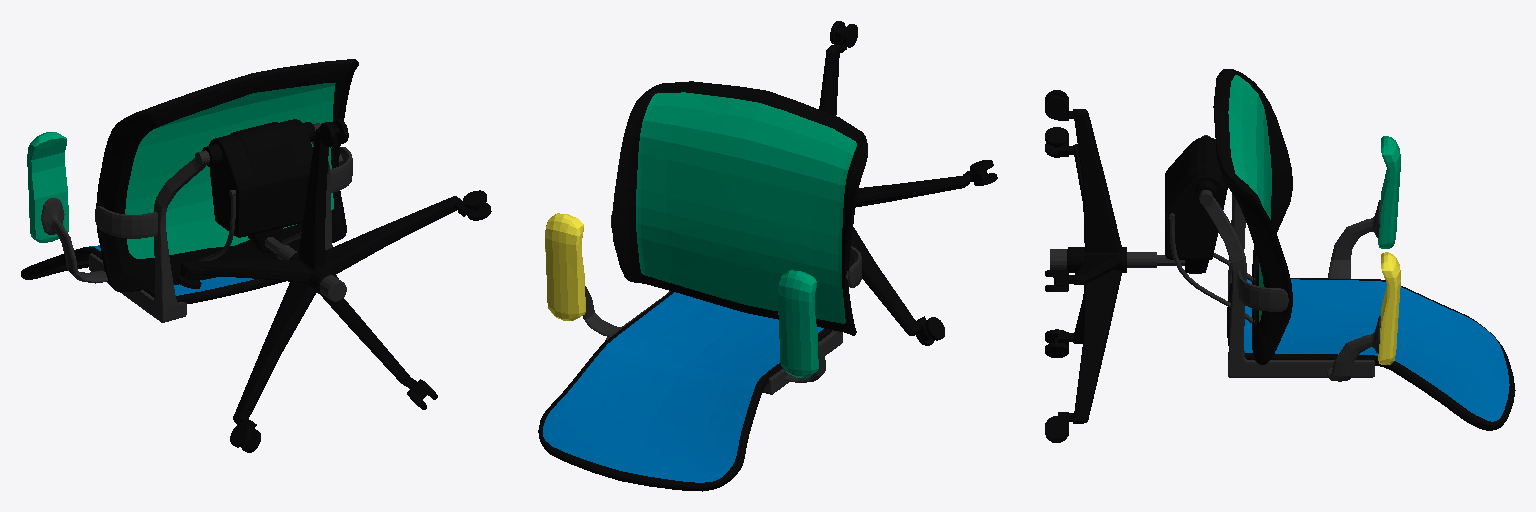
The robot description file, URDF, robot "516":
<robot name="516">


	<link name="0:virtual">
		<visual>
			<origin xyz="0.0 0.0 0.0" rpy="0 0 0"/>
			<geometry>
				<cylinder length="0" radius="0"/>
			</geometry>
		</visual>
	</link>


	<link name="1:static">
		<visual>
			<origin xyz="-0.0 -0.0 -0.0" rpy="0 0 0"/>
			<geometry>
				<mesh filename="../raw_data/516/part_meshes/1.dae" />
			</geometry>
		</visual>
	</link>


	<link name="2:armrest 1">
		<visual>
			<origin xyz="0.2751470059156418 -0.6934645175933838 0.007461998611688614" rpy="0 0 0"/>
			<geometry>
				<mesh filename="../raw_data/516/part_meshes/2.dae" />
			</geometry>
		</visual>
	</link>


	<link name="3:armrest 2">
		<visual>
			<origin xyz="-0.2751470059156418 -0.6934645175933838 0.007461998611688614" rpy="0 0 0"/>
			<geometry>
				<mesh filename="../raw_data/516/part_meshes/3.dae" />
			</geometry>
		</visual>
	</link>


	<link name="4:backrest 1">
		<visual>
			<origin xyz="-0.23217172102628017 -0.4293150041103362 0.18078520651190394" rpy="0 0 0"/>
			<geometry>
				<mesh filename="../raw_data/516/part_meshes/4.dae" />
			</geometry>
		</visual>
	</link>


	<link name="5:wheel 1">
		<visual>
			<origin xyz="2.8500333428382874e-05 -0.025014499100507237 -0.31538400053977966" rpy="0 0 0"/>
			<geometry>
				<mesh filename="../raw_data/516/part_meshes/5.dae" />
			</geometry>
		</visual>
	</link>


	<link name="6:wheel 2">
		<visual>
			<origin xyz="-0.32976644030748237 -0.025014499100507237 -0.07881467496090609" rpy="0 0 0"/>
			<geometry>
				<mesh filename="../raw_data/516/part_meshes/6.dae" />
			</geometry>
		</visual>
	</link>


	<link name="7:wheel 3">
		<visual>
			<origin xyz="0.32978458130077376 -0.025014499100507237 -0.07876124182861405" rpy="0 0 0"/>
			<geometry>
				<mesh filename="../raw_data/516/part_meshes/7.dae" />
			</geometry>
		</visual>
	</link>


	<link name="8:wheel 4">
		<visual>
			<origin xyz="-0.203835192202454 -0.025014499100507237 0.30887009292989054" rpy="0 0 0"/>
			<geometry>
				<mesh filename="../raw_data/516/part_meshes/8.dae" />
			</geometry>
		</visual>
	</link>


	<link name="9:wheel 5">
		<visual>
			<origin xyz="0.20378965217786538 -0.025014499100507237 0.3089031815654103" rpy="0 0 0"/>
			<geometry>
				<mesh filename="../raw_data/516/part_meshes/9.dae" />
			</geometry>
		</visual>
	</link>


	<link name="10:seat 1">
		<visual>
			<origin xyz="-0.0 -0.4195210039615631 -0.08163700252771378" rpy="0 0 0"/>
			<geometry>
				<mesh filename="../raw_data/516/part_meshes/10.dae" />
			</geometry>
		</visual>
	</link>


	<link name="11:arm 1">
		<visual>
			<origin xyz="-0.2601584851737282 -0.6207724809646606 0.11514195753724817" rpy="0 0 0"/>
			<geometry>
				<mesh filename="../raw_data/516/part_meshes/11.dae" />
			</geometry>
		</visual>
	</link>


	<link name="12:caster 1">
		<visual>
			<origin xyz="2.800021320581436e-05 -0.03805199917405844 -0.3013509912490845" rpy="0 0 0"/>
			<geometry>
				<mesh filename="../raw_data/516/part_meshes/12.dae" />
			</geometry>
		</visual>
	</link>


	<link name="13:caster 2">
		<visual>
			<origin xyz="-0.30868655915566734 -0.03805199917405844 -0.07196498073319178" rpy="0 0 0"/>
			<geometry>
				<mesh filename="../raw_data/516/part_meshes/13.dae" />
			</geometry>
		</visual>
	</link>


	<link name="14:caster 3">
		<visual>
			<origin xyz="-0.19712791284663858 -0.03805199917405844 0.2996388844519469" rpy="0 0 0"/>
			<geometry>
				<mesh filename="../raw_data/516/part_meshes/14.dae" />
			</geometry>
		</visual>
	</link>


	<link name="15:caster 4">
		<visual>
			<origin xyz="0.1931123082611337 -0.03805199917405844 0.29420678789379795" rpy="0 0 0"/>
			<geometry>
				<mesh filename="../raw_data/516/part_meshes/15.dae" />
			</geometry>
		</visual>
	</link>


	<link name="16:caster 5">
		<visual>
			<origin xyz="0.30680168114605333 -0.03805199917405844 -0.07129380838184372" rpy="0 0 0"/>
			<geometry>
				<mesh filename="../raw_data/516/part_meshes/16.dae" />
			</geometry>
		</visual>
	</link>


	<link name="17:arm 2">
		<visual>
			<origin xyz="0.26015813139043586 -0.6207724809646606 0.11514281002613701" rpy="0 0 0"/>
			<geometry>
				<mesh filename="../raw_data/516/part_meshes/17.dae" />
			</geometry>
		</visual>
	</link>


	<link name="18:gas lift piece 2">
		<visual>
			<origin xyz="-0.0 -0.1816760003566742 0.02836250001564622" rpy="0 0 0"/>
			<geometry>
				<mesh filename="../raw_data/516/part_meshes/18.dae" />
			</geometry>
		</visual>
	</link>


	<joint name="0:virtual::1:static" type="fixed">
		<parent link="0:virtual"/>
		<child link="1:static"/>
		<origin xyz="0.0 0.0 0.0" rpy="0 0 0"/>
	</joint>


	<joint name="17:arm 2::2:armrest 1_translation" type="prismatic">
		<parent link="17:arm 2"/>
		<child link="2:armrest 1"/>
		<origin xyz="-0.01498887452520592 0.07269203662872314 0.1076808114144484" rpy="0 0 0"/>
		<limit lower="-0.0701422626250384" upper="0.0701422626250384" effort="10" velocity="3"/>
		<axis xyz="0.0 0.0 1.0"/>
	</joint>


	<joint name="11:arm 1::3:armrest 2_translation" type="prismatic">
		<parent link="11:arm 1"/>
		<child link="3:armrest 2"/>
		<origin xyz="0.014988520741913591 0.07269203662872314 0.10767995892555955" rpy="0 0 0"/>
		<limit lower="-0.0701422626250384" upper="0.0701422626250384" effort="10" velocity="3"/>
		<axis xyz="0.0 0.0 1.0"/>
	</joint>


	<joint name="18:gas lift piece 2::4:backrest 1_rotation" type="revolute">
		<parent link="18:gas lift piece 2"/>
		<child link="4:backrest 1"/>
		<origin xyz="0.23217172102628017 0.247639003753662 -0.15242270649625772" rpy="0 0 0"/>
		<limit lower="-0.18849555921538758" upper="0.07853981633974483" effort="10" velocity="3"/>
		<axis xyz="0.9993551401656505 0.0 0.035906877119751233"/>
	</joint>


	<joint name="12:caster 1::5:wheel 1_rotation" type="revolute">
		<parent link="12:caster 1"/>
		<child link="5:wheel 1"/>
		<origin xyz="-5.00120222568512e-07 -0.0130375000735512 0.014033009290695175" rpy="0 0 0"/>
		<limit lower="-3.141592653589793" upper="3.141592653589793" effort="10" velocity="3"/>
		<axis xyz="-1.0 0.0 0.0"/>
	</joint>


	<joint name="13:caster 2::6:wheel 2_rotation" type="revolute">
		<parent link="13:caster 2"/>
		<child link="6:wheel 2"/>
		<origin xyz="0.021079881151815028 -0.0130375000735512 0.006849694227714309" rpy="0 0 0"/>
		<limit lower="-3.141592653589793" upper="3.141592653589793" effort="10" velocity="3"/>
		<axis xyz="0.30901756545265857 0.0 -0.9510563307405676"/>
	</joint>


	<joint name="16:caster 5::7:wheel 3_rotation" type="revolute">
		<parent link="16:caster 5"/>
		<child link="7:wheel 3"/>
		<origin xyz="-0.02298290015472043 -0.0130375000735512 0.007467433446770325" rpy="0 0 0"/>
		<limit lower="-3.141592653589793" upper="3.141592653589793" effort="10" velocity="3"/>
		<axis xyz="0.30901756545265857 0.0 0.9510563307405676"/>
	</joint>


	<joint name="14:caster 3::8:wheel 4_rotation" type="revolute">
		<parent link="14:caster 3"/>
		<child link="8:wheel 4"/>
		<origin xyz="0.006707279355815415 -0.0130375000735512 -0.00923120847794362" rpy="0 0 0"/>
		<limit lower="-3.141592653589793" upper="3.141592653589793" effort="10" velocity="3"/>
		<axis xyz="-0.809017690817185 0.0 -0.5877842937207747"/>
	</joint>


	<joint name="15:caster 4::9:wheel 5_rotation" type="revolute">
		<parent link="15:caster 4"/>
		<child link="9:wheel 5"/>
		<origin xyz="-0.010677343916731669 -0.0130375000735512 -0.014696393671612351" rpy="0 0 0"/>
		<limit lower="-3.141592653589793" upper="3.141592653589793" effort="10" velocity="3"/>
		<axis xyz="0.8090185846641318 0.0 -0.5877830634409646"/>
	</joint>


	<joint name="18:gas lift piece 2::10:seat 1_rotation" type="revolute">
		<parent link="18:gas lift piece 2"/>
		<child link="10:seat 1"/>
		<origin xyz="0.0 0.23784500360488892 0.10999950254336" rpy="0 0 0"/>
		<limit lower="-0.23561944901923448" upper="0.15707963267948966" effort="10" velocity="3"/>
		<axis xyz="-1.0 0.0 0.0"/>
	</joint>


	<joint name="18:gas lift piece 2::11:arm 1_translation" type="prismatic">
		<parent link="18:gas lift piece 2"/>
		<child link="11:arm 1"/>
		<origin xyz="0.2601584851737282 0.43909648060798645 -0.08677945752160195" rpy="0 0 0"/>
		<limit lower="-0.17547250688076" upper="0.0355274931192398" effort="10" velocity="3"/>
		<axis xyz="0.0 1.0 0.0"/>
	</joint>


	<joint name="0:virtual::12:caster 1_rotation" type="revolute">
		<parent link="0:virtual"/>
		<child link="12:caster 1"/>
		<origin xyz="-2.800021320581436e-05 0.03805199917405844 0.3013509912490845" rpy="0 0 0"/>
		<limit lower="-3.141592653589793" upper="3.141592653589793" effort="10" velocity="3"/>
		<axis xyz="0.0 1.0 0.0"/>
	</joint>


	<joint name="0:virtual::13:caster 2_rotation" type="revolute">
		<parent link="0:virtual"/>
		<child link="13:caster 2"/>
		<origin xyz="0.30868655915566734 0.03805199917405844 0.07196498073319178" rpy="0 0 0"/>
		<limit lower="-3.141592653589793" upper="3.141592653589793" effort="10" velocity="3"/>
		<axis xyz="0.0 1.0 0.0"/>
	</joint>


	<joint name="0:virtual::14:caster 3_rotation" type="revolute">
		<parent link="0:virtual"/>
		<child link="14:caster 3"/>
		<origin xyz="0.19712791284663858 0.03805199917405844 -0.2996388844519469" rpy="0 0 0"/>
		<limit lower="-3.141592653589793" upper="3.141592653589793" effort="10" velocity="3"/>
		<axis xyz="0.0 1.0 0.0"/>
	</joint>


	<joint name="0:virtual::15:caster 4_rotation" type="revolute">
		<parent link="0:virtual"/>
		<child link="15:caster 4"/>
		<origin xyz="-0.1931123082611337 0.03805199917405844 -0.29420678789379795" rpy="0 0 0"/>
		<limit lower="-3.141592653589793" upper="3.141592653589793" effort="10" velocity="3"/>
		<axis xyz="0.0 1.0 0.0"/>
	</joint>


	<joint name="0:virtual::16:caster 5_rotation" type="revolute">
		<parent link="0:virtual"/>
		<child link="16:caster 5"/>
		<origin xyz="-0.30680168114605333 0.03805199917405844 0.07129380838184372" rpy="0 0 0"/>
		<limit lower="-3.141592653589793" upper="3.141592653589793" effort="10" velocity="3"/>
		<axis xyz="0.0 1.0 0.0"/>
	</joint>


	<joint name="18:gas lift piece 2::17:arm 2_translation" type="prismatic">
		<parent link="18:gas lift piece 2"/>
		<child link="17:arm 2"/>
		<origin xyz="-0.26015813139043586 0.43909648060798645 -0.08678031001049079" rpy="0 0 0"/>
		<limit lower="-0.17547250688076" upper="0.0355274931192398" effort="10" velocity="3"/>
		<axis xyz="0.0 1.0 0.0"/>
	</joint>


	<joint name="0:virtual::18:gas lift piece 2_rotation" type="revolute">
		<parent link="0:virtual"/>
		<child link="18:gas lift piece 2"/>
		<origin xyz="0.0 0.1816760003566742 -0.02836250001564622" rpy="0 0 0"/>
		<limit lower="-3.141592653589793" upper="3.141592653589793" effort="10" velocity="3"/>
		<axis xyz="0.0 1.0 0.0"/>
	</joint>


</robot>

--- Facts derived from the render (not from the file) ---
Views: 3 orthographic renders of the robot side by side, from view 1: azimuth 30°, elevation 25°; view 2: azimuth 150°, elevation 25°; view 3: azimuth 270°, elevation 25°.
Model 516 with 19 links and 18 joints (13 revolute, 4 prismatic, 1 fixed), rooted at 0:virtual, posed every joint at zero.
Links seen in each view (by area): view 1: 10:seat 1, 18:gas lift piece 2, 1:static, 2:armrest 1, 4:backrest 1, 17:arm 2, 9:wheel 5, 6:wheel 2, 5:wheel 1; view 2: 10:seat 1, 4:backrest 1, 1:static, 2:armrest 1, 3:armrest 2, 18:gas lift piece 2, 11:arm 1; view 3: 4:backrest 1, 18:gas lift piece 2, 10:seat 1, 1:static, 2:armrest 1, 3:armrest 2, 17:arm 2, 11:arm 1, 5:wheel 1, 8:wheel 4, 7:wheel 3.
Link boxes in pixels (x1,y1,x2,y2): 10:seat 1: (96,59,358,291); 18:gas lift piece 2: (89,119,352,322); 1:static: (187,127,481,442); 2:armrest 1: (27,132,68,242); 4:backrest 1: (21,245,285,303); 17:arm 2: (41,198,108,283); 9:wheel 5: (230,423,260,452); 6:wheel 2: (463,190,491,220); 5:wheel 1: (320,119,348,146); 10:seat 1: (612,81,867,335); 4:backrest 1: (538,291,831,491); 1:static: (819,44,970,335); 2:armrest 1: (778,270,818,377); 3:armrest 2: (545,213,585,320); 18:gas lift piece 2: (605,211,861,394); 11:arm 1: (583,286,620,336); 4:backrest 1: (1227,278,1515,430); 18:gas lift piece 2: (1127,135,1374,377); 10:seat 1: (1213,69,1292,364); 1:static: (1050,109,1126,423); 2:armrest 1: (1378,136,1400,248); 3:armrest 2: (1378,252,1400,364); 17:arm 2: (1328,200,1380,278); 11:arm 1: (1326,316,1380,381); 5:wheel 1: (1045,90,1068,119); 8:wheel 4: (1045,416,1068,442); 7:wheel 3: (1045,127,1068,157).
Size in the robot's own frame: 0.7182 by 0.946 by 0.6804 metres.
Meshes: 18 distinct files referenced, 18 mesh visuals loaded (18 Collada DAE).